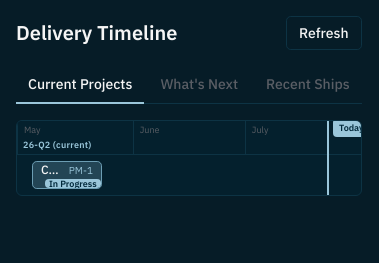
Test case: DeliveryTimelinePage › switches to the Recent Ships tab and shows its tickets
Check: the text "Current ticket" is shown, box [41,162,65,178]
What coordinates should you click on to do the following:
click the button "Recent Ships"
I would click on:
 (308, 85)
Its box is [254,66,362,104].
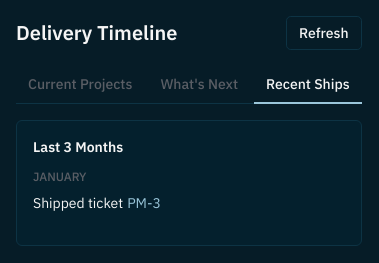
Check: the text "Shipped ticket" is shown, box [33,193,123,213]
